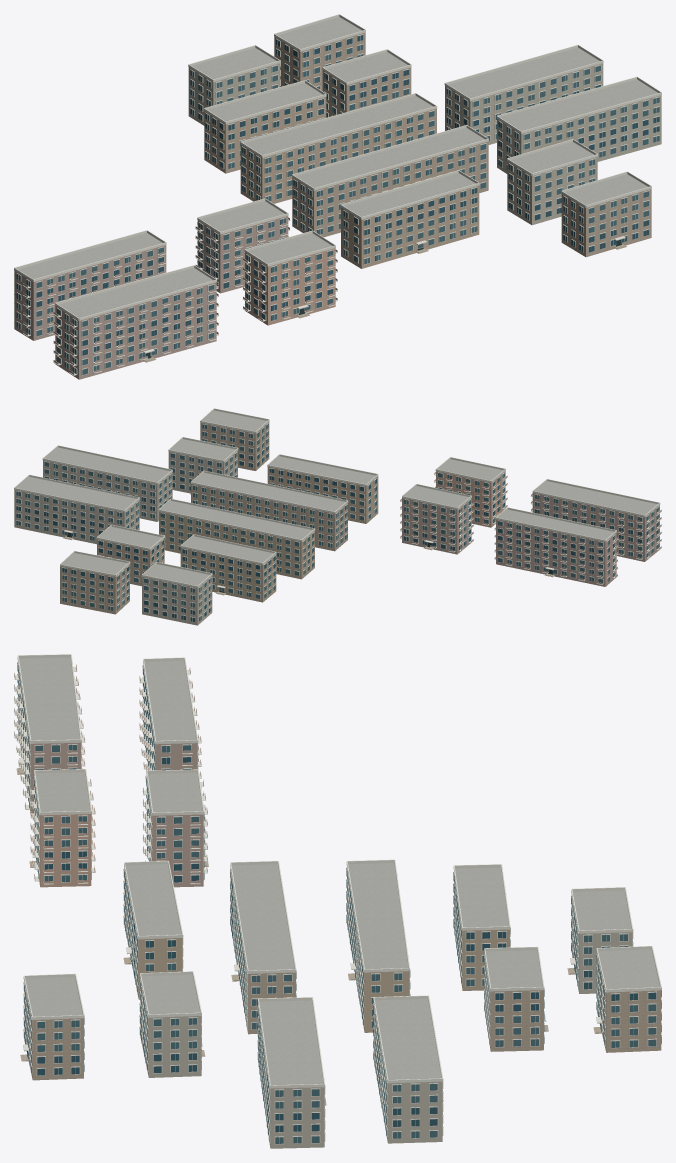
Rendered from chunk-p1-p1.glb.
3 renders of one model, top to bottom at view 1: azimuth 30°, elevation 25°; view 2: azimuth 150°, elevation 25°; view 3: azimuth 270°, elevation 25°, orthographic. The views are drawn at different scales.
Visible parts, largest first — view 1: chunk-p1-p1; view 2: chunk-p1-p1; view 3: chunk-p1-p1.
Boxes of the visible parts, x1,y1,x2,y2 form: chunk-p1-p1: [14, 14, 661, 379]; chunk-p1-p1: [14, 408, 661, 625]; chunk-p1-p1: [14, 654, 661, 1148].
Size of the model in its own units: 249 by 24.36 by 165.
11 materials, 3 textured.
